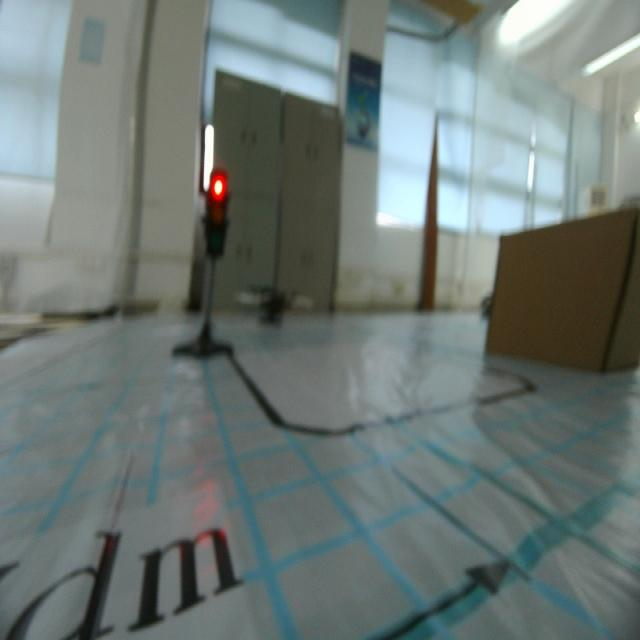red: (203, 167, 229, 266)
